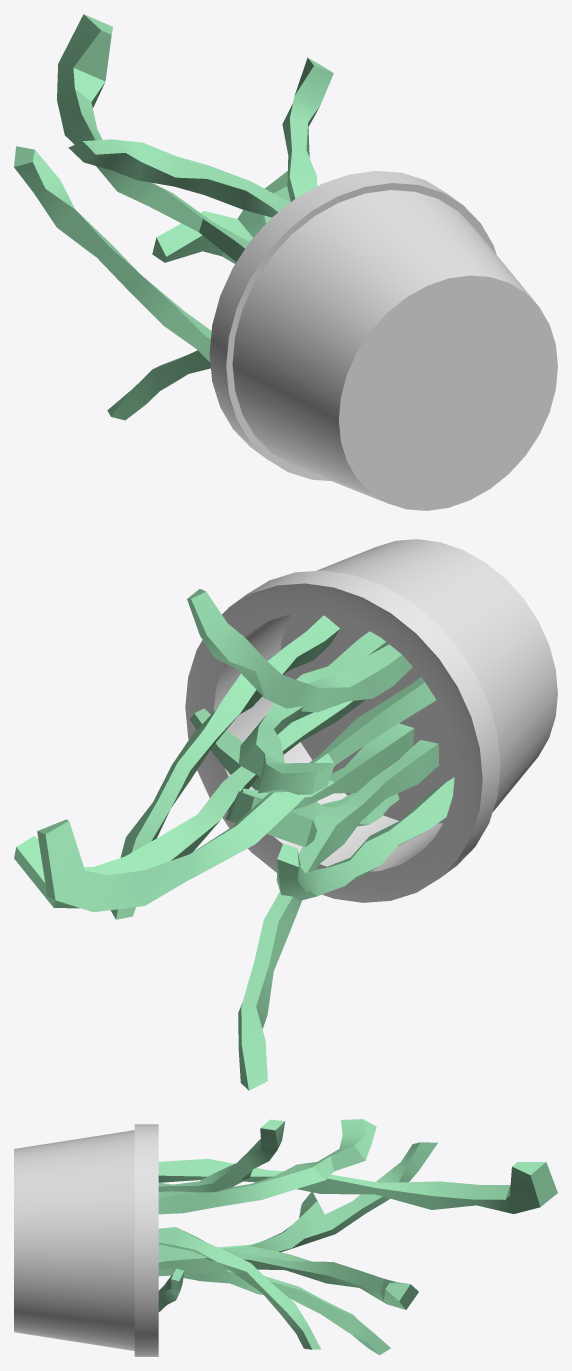
File: m_plantpot.fbx
3 views of the same model, one above another, from view 1: azimuth 30°, elevation 25°; view 2: azimuth 150°, elevation 25°; view 3: azimuth 270°, elevation 25° (orthographic). The views are drawn at different scales.
Visible parts, largest first — view 1: m_plant; view 2: m_plant; view 3: m_plant.
Part boxes in pixels (x1,y1,x2,y2): m_plant: [14, 14, 557, 510]; m_plant: [14, 539, 557, 1090]; m_plant: [14, 1119, 557, 1356].
Bounding box in the file's own units: 83.73 × 104 × 188.
